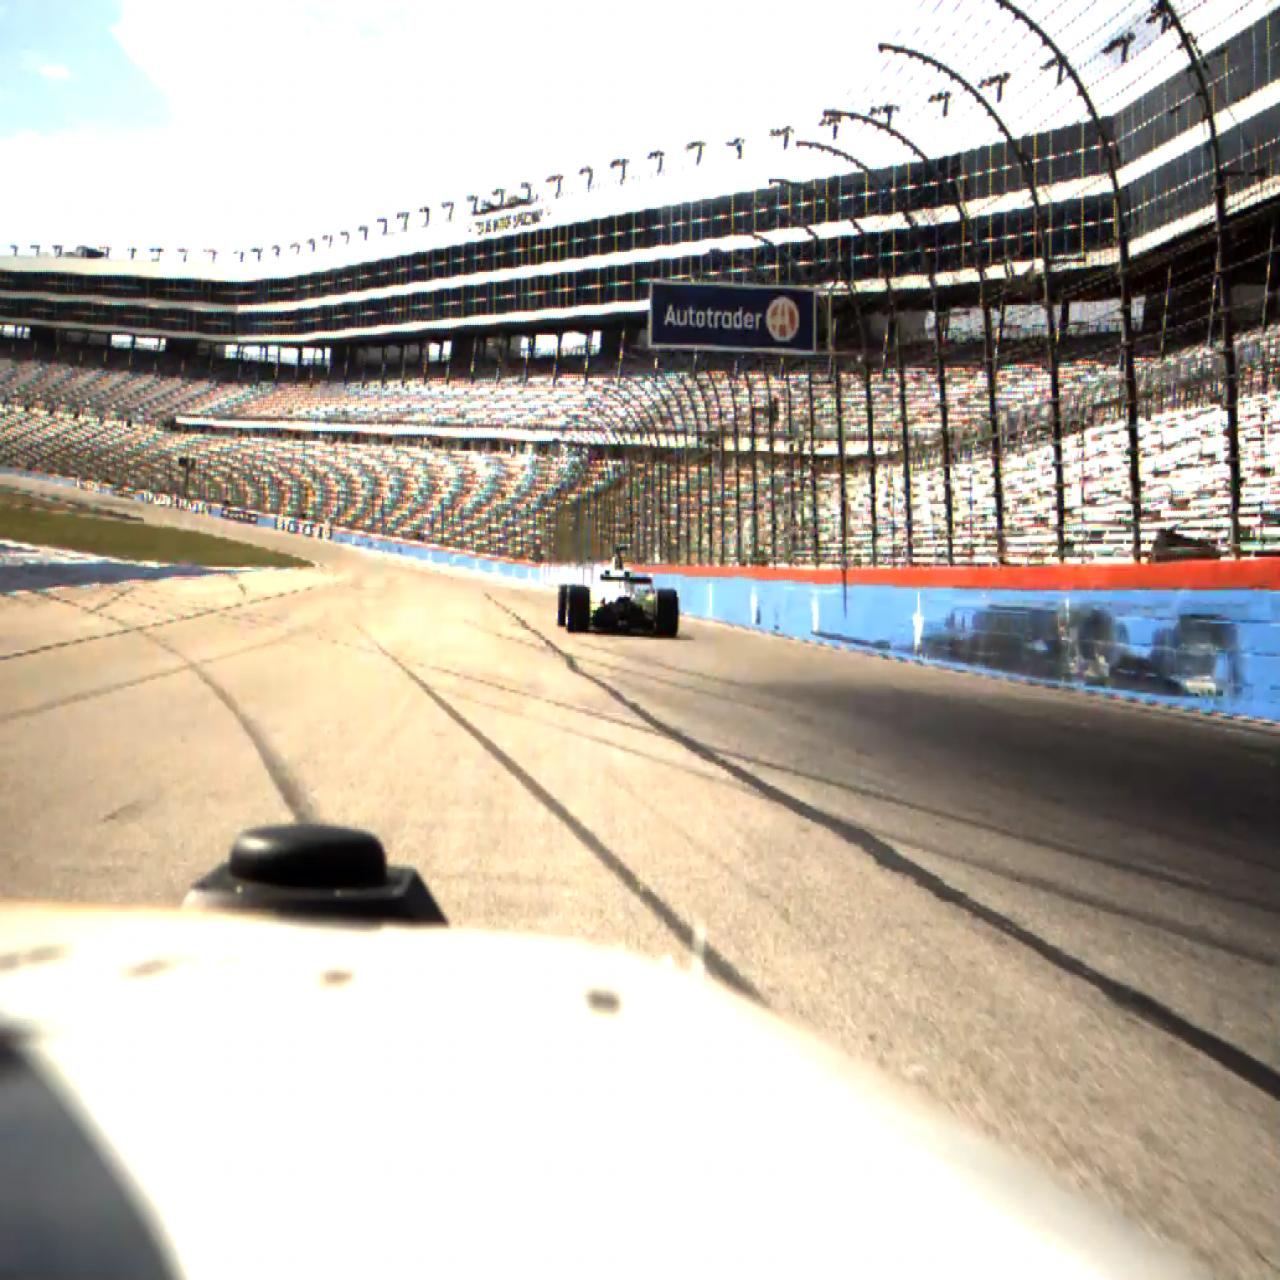AV: (556, 546, 679, 639)
Wheel: (656, 588, 679, 639), (567, 586, 590, 634), (557, 584, 574, 628)
